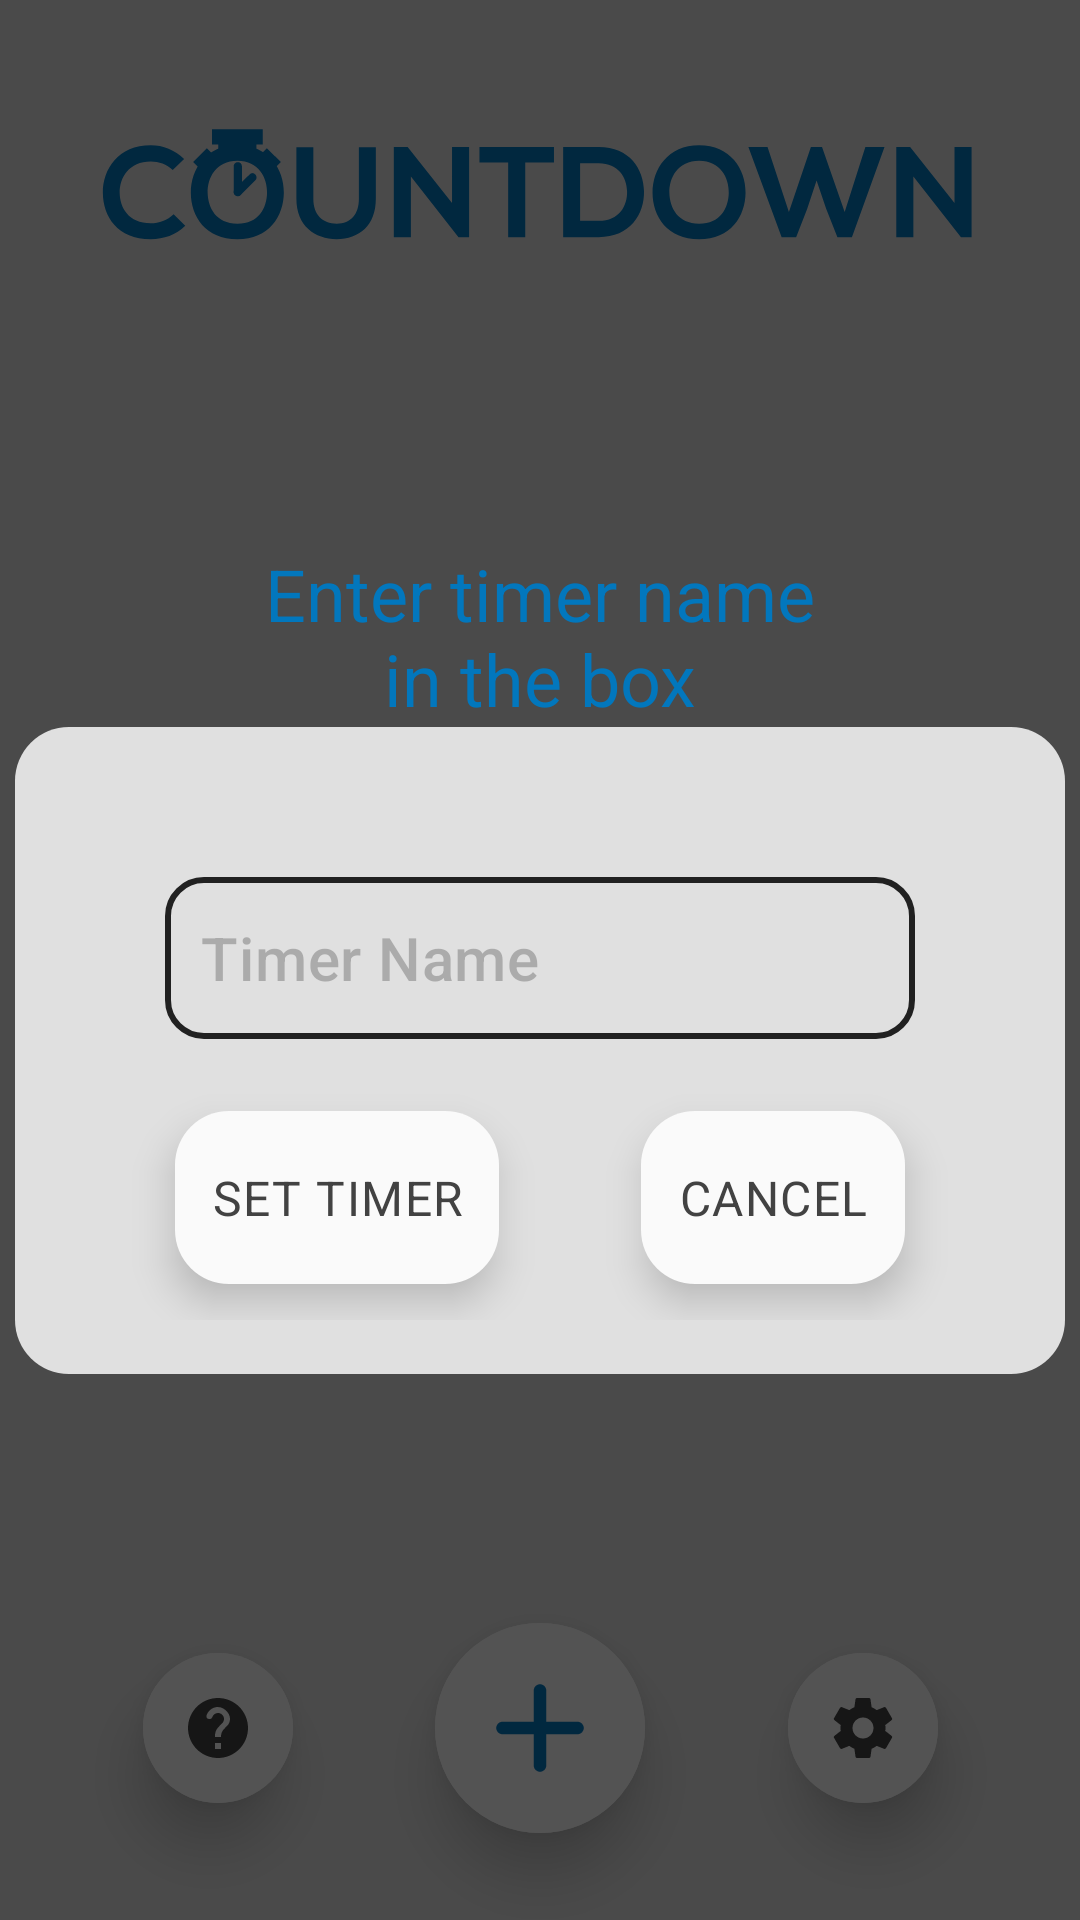

Icons on this 1080 x 1920 Android screen, each with its box as detection(x1, y1, x2, y2):
add: detection(435, 1623, 645, 1833)
help: detection(188, 1698, 248, 1758)
settings: detection(834, 1698, 892, 1758)
